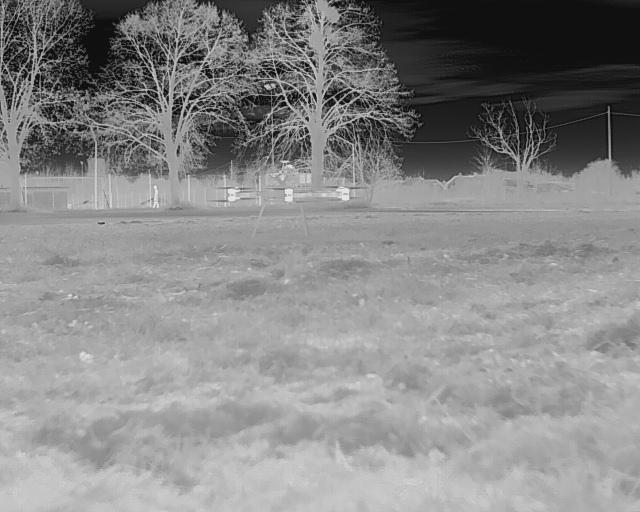drone: (189, 168, 368, 244)
